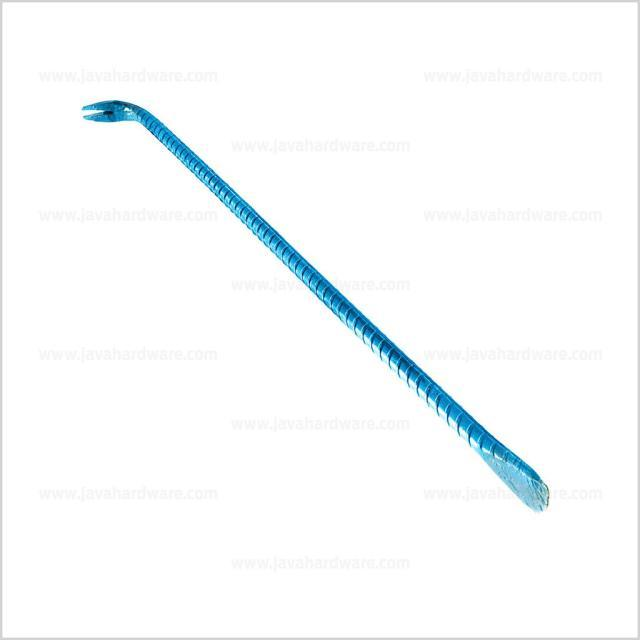Linggis: (65, 78, 557, 516)
